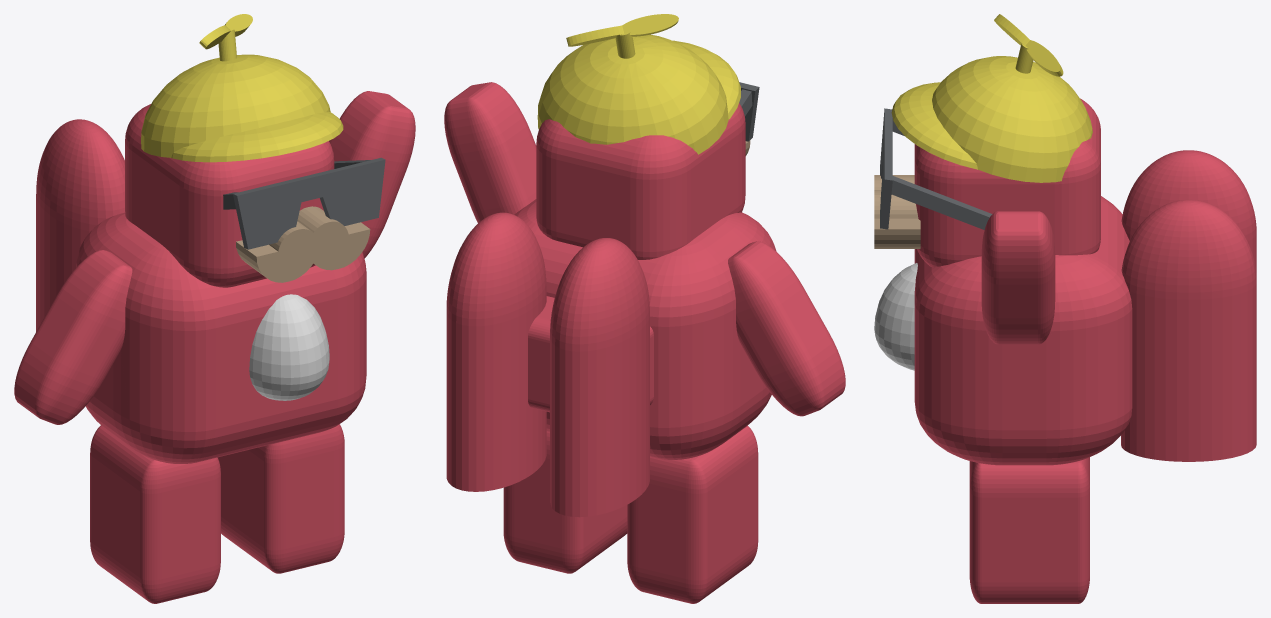
The model's file is astro5.glb.
3 renders of one model, left to right at view 1: azimuth 30°, elevation 25°; view 2: azimuth 150°, elevation 25°; view 3: azimuth 270°, elevation 25°, orthographic. The views are drawn at different scales.
Parts seen in each view (by area): view 1: Mesh_Mesh_head_geo.001_lambert2SG.001; view 2: Mesh_Mesh_head_geo.001_lambert2SG.001; view 3: Mesh_Mesh_head_geo.001_lambert2SG.001.
Boxes of the visible parts, box(x1,y1,x2,y2) form: Mesh_Mesh_head_geo.001_lambert2SG.001: box(14, 14, 415, 603); Mesh_Mesh_head_geo.001_lambert2SG.001: box(444, 14, 845, 603); Mesh_Mesh_head_geo.001_lambert2SG.001: box(874, 14, 1256, 603).
Bounding box in the file's own units: 0.074 × 0.1019 × 0.066.
